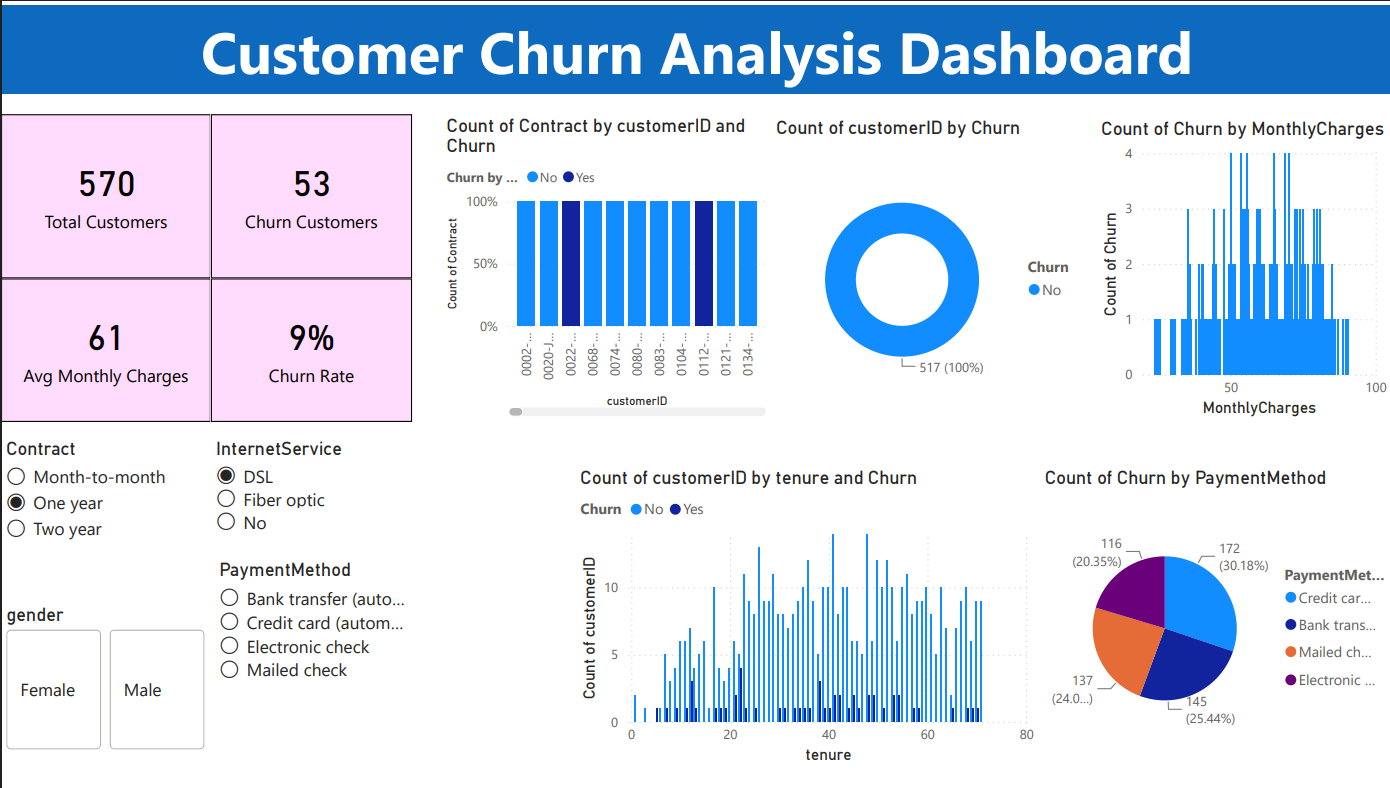

Layout of this report page (visuals, bound fields, positions):
{"tool":"powerbi","page":{"name":"Page 1","canvas":[1280,720],"ordinal":0},"visuals":[{"type":"textbox","box":[0,0,1280.3,81],"z":0},{"type":"advanceCardE03760C5AB684758B56AA29F9E6C257B","fields":{"mainMeasure":["WA_Fn-UseC_-Telco-Customer-Churn.Total Customers"]},"box":[0,100.2,193.5,150.9],"z":1000},{"type":"advanceCardE03760C5AB684758B56AA29F9E6C257B","fields":{"mainMeasure":["WA_Fn-UseC_-Telco-Customer-Churn.Churn Customers"]},"box":[193.5,100.2,185.2,150.9],"z":2000},{"type":"advanceCardE03760C5AB684758B56AA29F9E6C257B","fields":{"mainMeasure":["WA_Fn-UseC_-Telco-Customer-Churn.Avg Monthly Charges"]},"box":[0,251.1,193.5,131.7],"z":3000},{"type":"advanceCardE03760C5AB684758B56AA29F9E6C257B","fields":{"mainMeasure":["WA_Fn-UseC_-Telco-Customer-Churn.Churn Rate"]},"box":[193.5,251.1,185.2,131.7],"z":4000},{"type":"hundredPercentStackedColumnChart","fields":{"Y":["CountNonNull(WA_Fn-UseC_-Telco-Customer-Churn.Contract)"],"Category":["WA_Fn-UseC_-Telco-Customer-Churn.customerID"],"Series":["WA_Fn-UseC_-Telco-Customer-Churn.Churn"]},"box":[404.8,100.2,303.3,282.7],"z":5000},{"type":"donutChart","fields":{"Y":["CountNonNull(WA_Fn-UseC_-Telco-Customer-Churn.customerID)"],"Category":["WA_Fn-UseC_-Telco-Customer-Churn.Churn"]},"box":[708.1,101.5,299.1,281.3],"z":6000},{"type":"clusteredColumnChart","fields":{"Y":["CountNonNull(WA_Fn-UseC_-Telco-Customer-Churn.Churn)"],"Category":["WA_Fn-UseC_-Telco-Customer-Churn.MonthlyCharges"]},"box":[1007.2,102.9,273.1,279.9],"z":7000},{"type":"clusteredColumnChart","fields":{"Y":["CountNonNull(WA_Fn-UseC_-Telco-Customer-Churn.customerID)"],"Category":["WA_Fn-UseC_-Telco-Customer-Churn.tenure"],"Series":["WA_Fn-UseC_-Telco-Customer-Churn.Churn"]},"box":[528.3,424,426.8,278.6],"z":8000},{"type":"pieChart","fields":{"Category":["WA_Fn-UseC_-Telco-Customer-Churn.PaymentMethod"],"Y":["CountNonNull(WA_Fn-UseC_-Telco-Customer-Churn.Churn)"]},"box":[955.1,424,325.2,278.6],"z":9000},{"type":"listSlicer","fields":{"Values":["WA_Fn-UseC_-Telco-Customer-Churn.Contract"]},"box":[0,396.6,193.5,223.7],"z":10000},{"type":"listSlicer","fields":{"Values":["WA_Fn-UseC_-Telco-Customer-Churn.InternetService"]},"box":[193.5,396.6,183.9,203.1],"z":11000},{"type":"advancedSlicerVisual","fields":{"Values":["WA_Fn-UseC_-Telco-Customer-Churn.gender"]},"box":[0,550.3,193.5,140],"z":12000},{"type":"listSlicer","fields":{"Values":["WA_Fn-UseC_-Telco-Customer-Churn.PaymentMethod"]},"box":[196.2,509.1,182.5,211.3],"z":13000}]}

Visuals, with their boxes in screenshot pixels (x1, y1, x2, y2), scaled from the page's 1280x720 canvas onto the 1390x788 screenshot:
textbox: [left=0, top=0, right=1389, bottom=89]
advanceCardE03760C5AB684758B56AA29F9E6C257B - WA_Fn-UseC_-Telco-Customer-Churn.Total Customers: [left=0, top=110, right=210, bottom=275]
advanceCardE03760C5AB684758B56AA29F9E6C257B - WA_Fn-UseC_-Telco-Customer-Churn.Churn Customers: [left=210, top=110, right=411, bottom=275]
advanceCardE03760C5AB684758B56AA29F9E6C257B - WA_Fn-UseC_-Telco-Customer-Churn.Avg Monthly Charges: [left=0, top=275, right=210, bottom=419]
advanceCardE03760C5AB684758B56AA29F9E6C257B - WA_Fn-UseC_-Telco-Customer-Churn.Churn Rate: [left=210, top=275, right=411, bottom=419]
hundredPercentStackedColumnChart - CountNonNull(WA_Fn-UseC_-Telco-Customer-Churn.Contract) x WA_Fn-UseC_-Telco-Customer-Churn.customerID: [left=440, top=110, right=769, bottom=419]
donutChart - CountNonNull(WA_Fn-UseC_-Telco-Customer-Churn.customerID) x WA_Fn-UseC_-Telco-Customer-Churn.Churn: [left=769, top=111, right=1094, bottom=419]
clusteredColumnChart - CountNonNull(WA_Fn-UseC_-Telco-Customer-Churn.Churn) x WA_Fn-UseC_-Telco-Customer-Churn.MonthlyCharges: [left=1094, top=113, right=1389, bottom=419]
clusteredColumnChart - CountNonNull(WA_Fn-UseC_-Telco-Customer-Churn.customerID) x WA_Fn-UseC_-Telco-Customer-Churn.tenure: [left=574, top=464, right=1037, bottom=769]
pieChart - WA_Fn-UseC_-Telco-Customer-Churn.PaymentMethod x CountNonNull(WA_Fn-UseC_-Telco-Customer-Churn.Churn): [left=1037, top=464, right=1389, bottom=769]
listSlicer - WA_Fn-UseC_-Telco-Customer-Churn.Contract: [left=0, top=434, right=210, bottom=679]
listSlicer - WA_Fn-UseC_-Telco-Customer-Churn.InternetService: [left=210, top=434, right=410, bottom=656]
advancedSlicerVisual - WA_Fn-UseC_-Telco-Customer-Churn.gender: [left=0, top=602, right=210, bottom=755]
listSlicer - WA_Fn-UseC_-Telco-Customer-Churn.PaymentMethod: [left=213, top=557, right=411, bottom=787]
